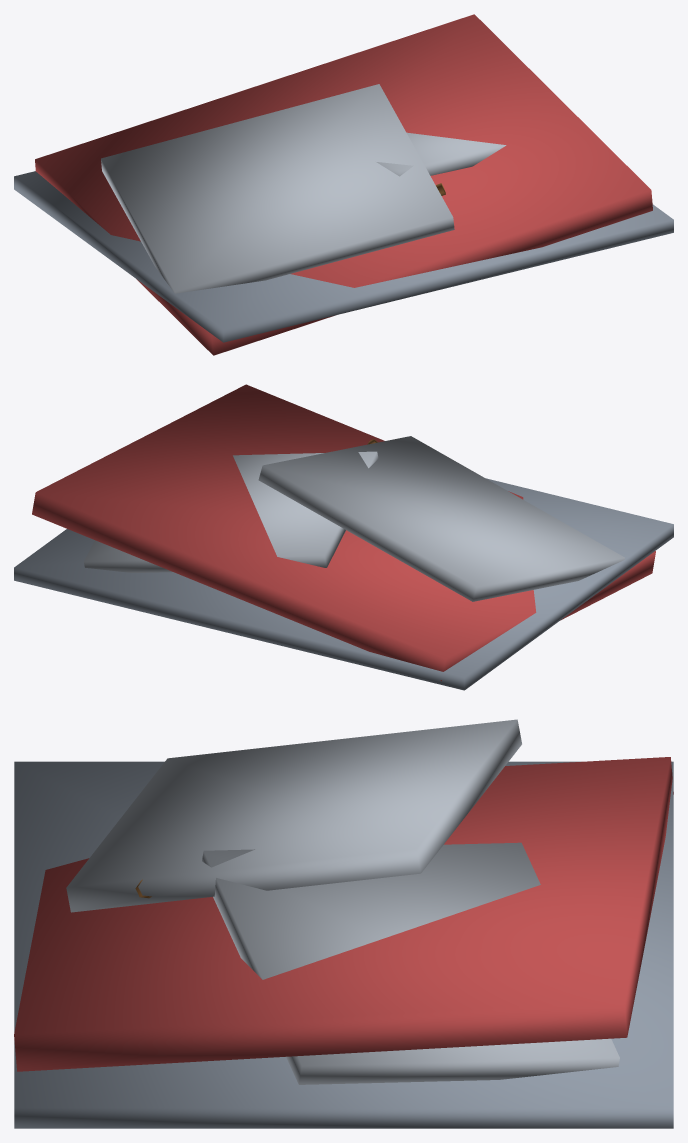
The model's file is hart-barn-wreck.glb.
3 renders of one model, top to bottom at view 1: azimuth 30°, elevation 25°; view 2: azimuth 150°, elevation 25°; view 3: azimuth 270°, elevation 25°, orthographic. The views are drawn at different scales.
Parts seen in each view (by area): view 1: world; view 2: world; view 3: world.
Boxes of the visible parts, x1,y1,x2,y2 form: world: [14, 14, 673, 355]; world: [14, 384, 673, 690]; world: [14, 719, 673, 1128].
Bounding box in the file's own units: 24.7 × 6.4 × 19.9.
